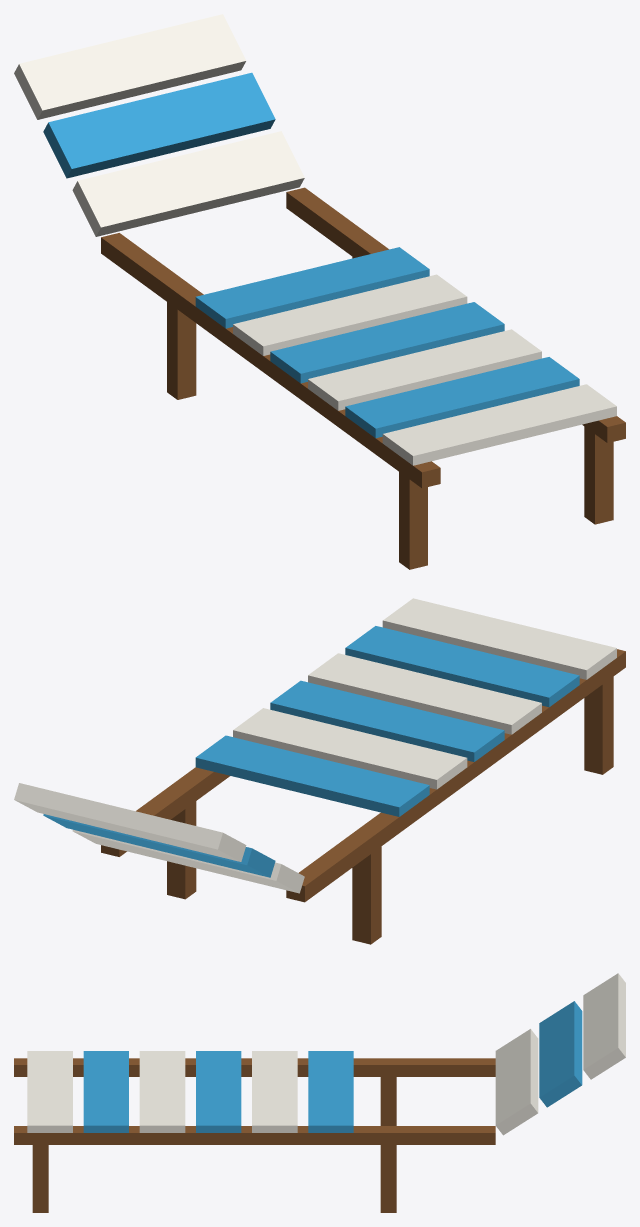
Rendered from Prop_Lounger.fbx.
The picture shows the model from 3 angles, top to bottom: view 1: azimuth 30°, elevation 25°; view 2: azimuth 150°, elevation 25°; view 3: azimuth 270°, elevation 25°; orthographic projection. The views are drawn at different scales.
Visible parts, largest first — view 1: Prop_Lounger.001; view 2: Prop_Lounger.001; view 3: Prop_Lounger.001.
Boxes of the visible parts, box(x1,y1,x2,y2) form: Prop_Lounger.001: box(14, 14, 625, 569); Prop_Lounger.001: box(14, 598, 625, 944); Prop_Lounger.001: box(14, 973, 625, 1212).
Size of the model in its own units: 0.66 by 0.6812 by 2.29.
